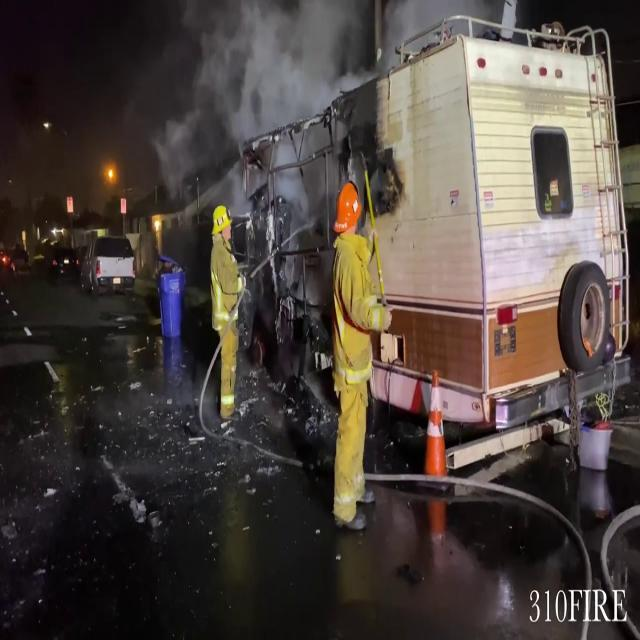Smoke: (153, 2, 355, 200)
